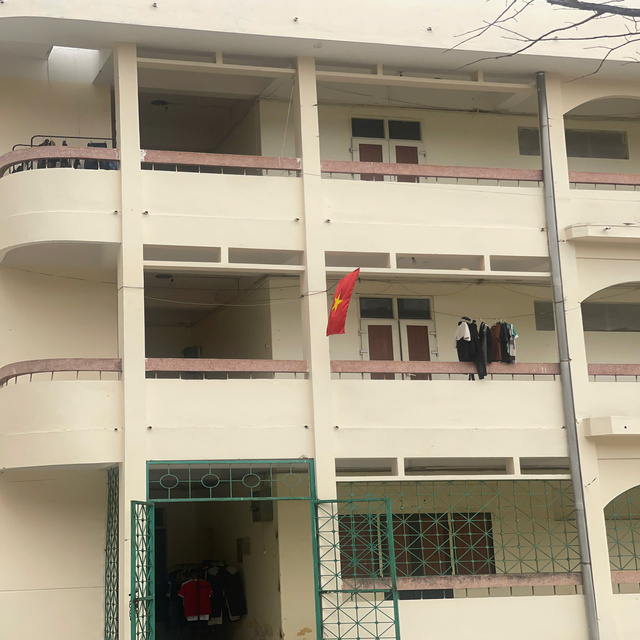laco: (319, 264, 369, 341)
